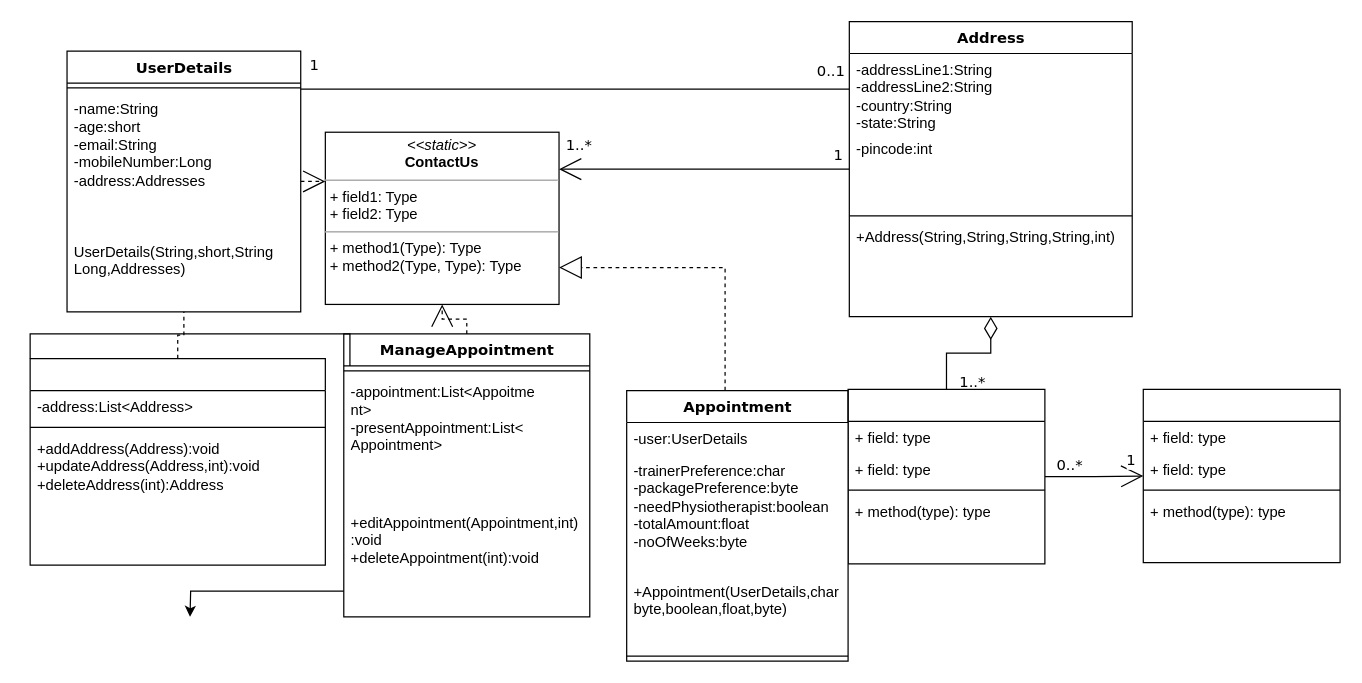
The diagram is 1362 pixels wide and 683 high, and some of its shapes have lost their labels. Each missing label, with the box of its shape:
Addresses: (29, 357, 325, 565)
Classname: (1142, 388, 1340, 563)
